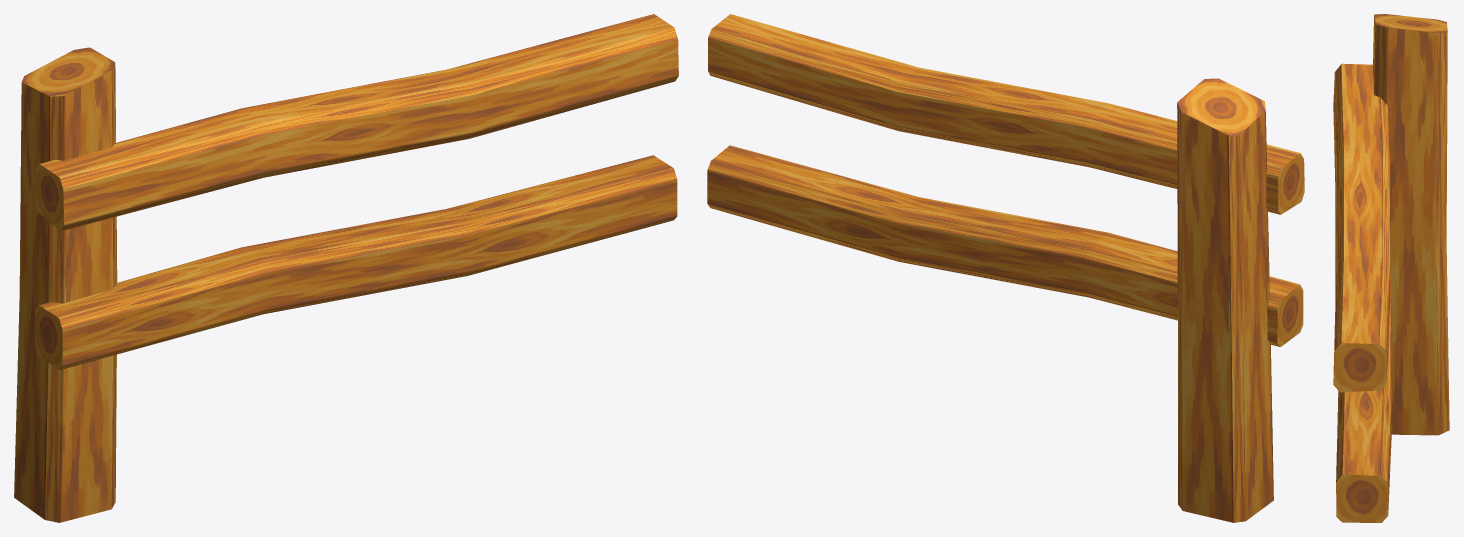
Rendered from fence_w_150.glb.
The picture shows the model from 3 angles, left to right: view 1: azimuth 30°, elevation 25°; view 2: azimuth 150°, elevation 25°; view 3: azimuth 270°, elevation 25°; orthographic projection. The views are drawn at different scales.
Parts seen in each view (by area): view 1: fence_w_150; view 2: fence_w_150; view 3: fence_w_150.
Boxes of the visible parts, box(x1,y1,x2,y2) form: fence_w_150: box(14, 14, 678, 522); fence_w_150: box(707, 14, 1304, 522); fence_w_150: box(1333, 14, 1449, 522).
Size of the model in its own units: 1.74 by 1.19 by 0.3062.
Materials: 1 (1 with a texture image).
